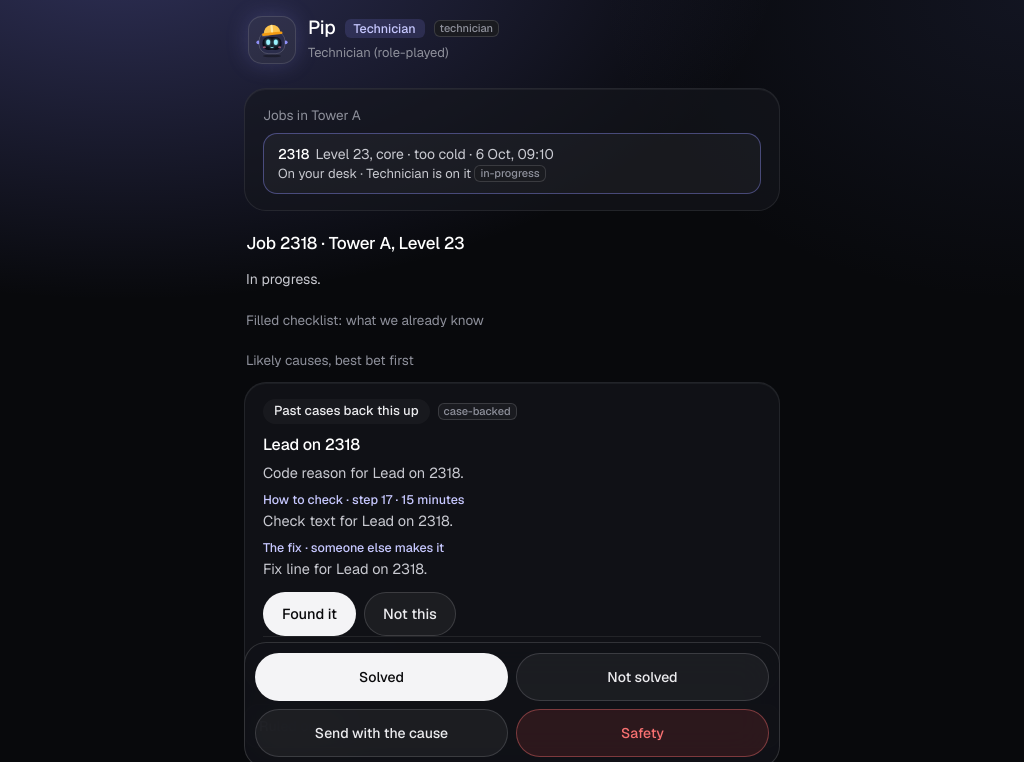
Test: C7b review: Raise from the Safety list scrolls to the stop's card › a pick that stores the card scrolls to it
The image size is (1024, 762).
Click the button "Safety": (642, 733) [516,709,769,757]
(page scrolled)
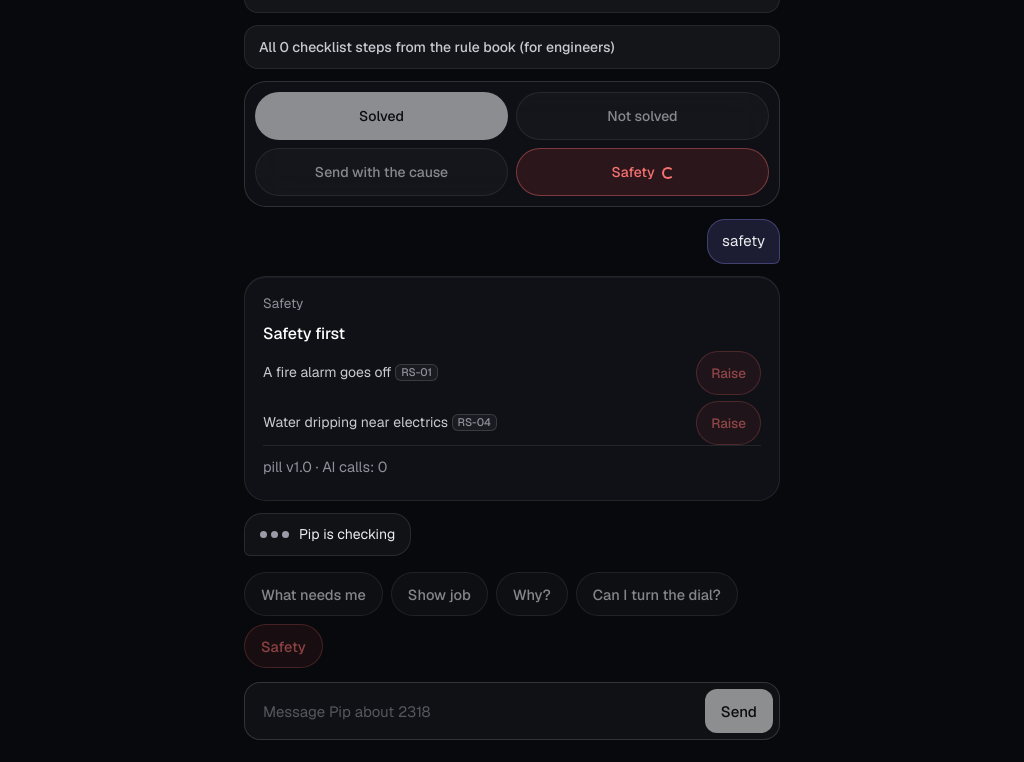
Click the button with aria-label "Raise RS-04": (729, 423) [696,401,761,445]
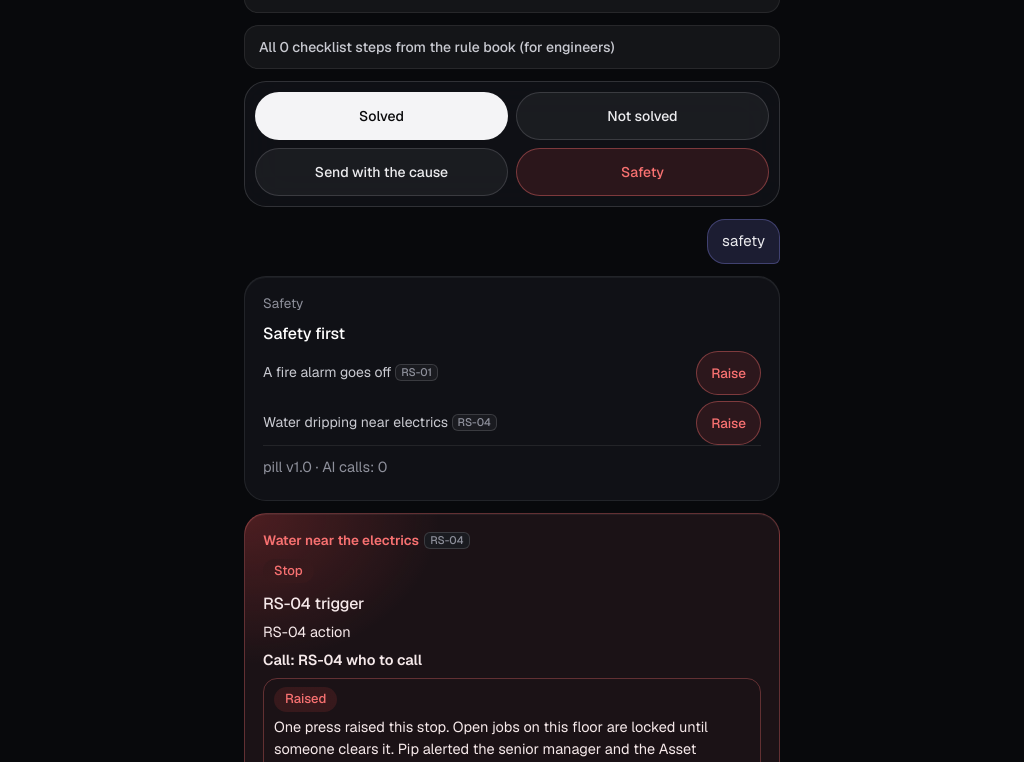
Result: the text "Call: RS-04 who to call" is shown at [263,650,422,669]
